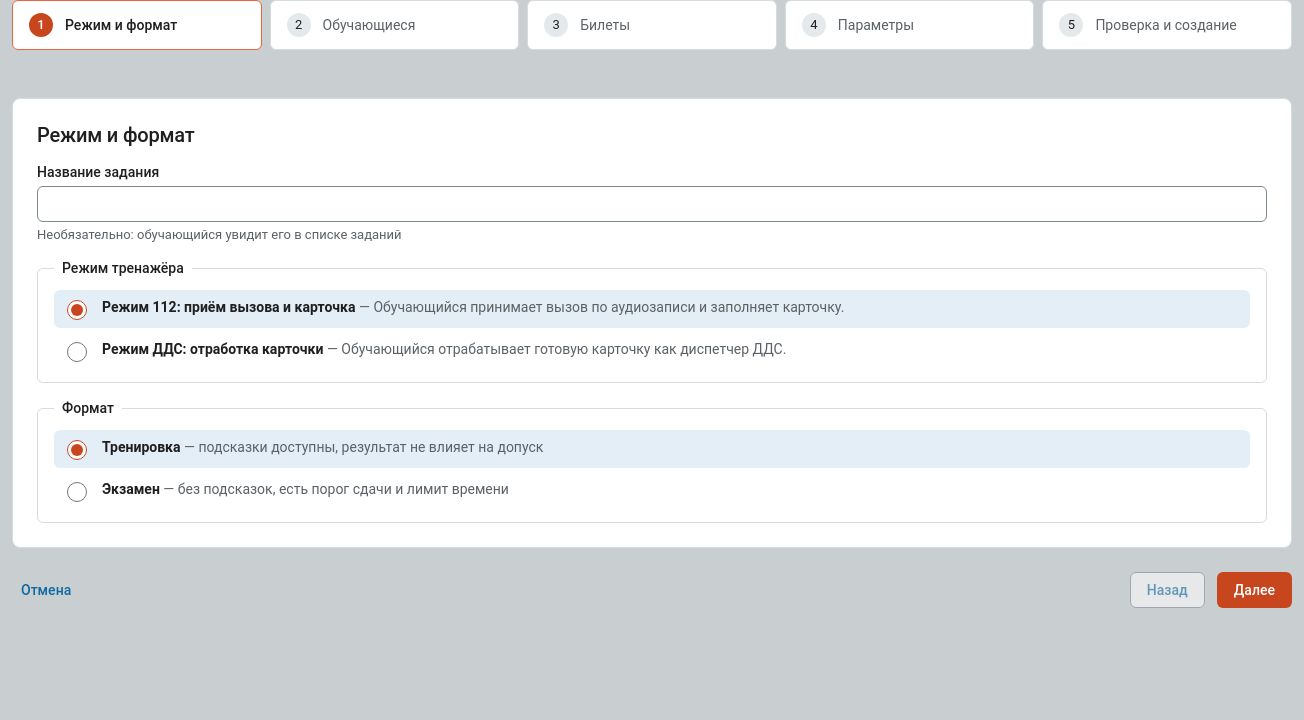
Test: мастер назначения › шаг 1: без закреплённых групп обучающихся нет
This screenshot has width=1304, height=720.
Click the button "Далее" at (1254, 590), box [1217,572,1292,608]
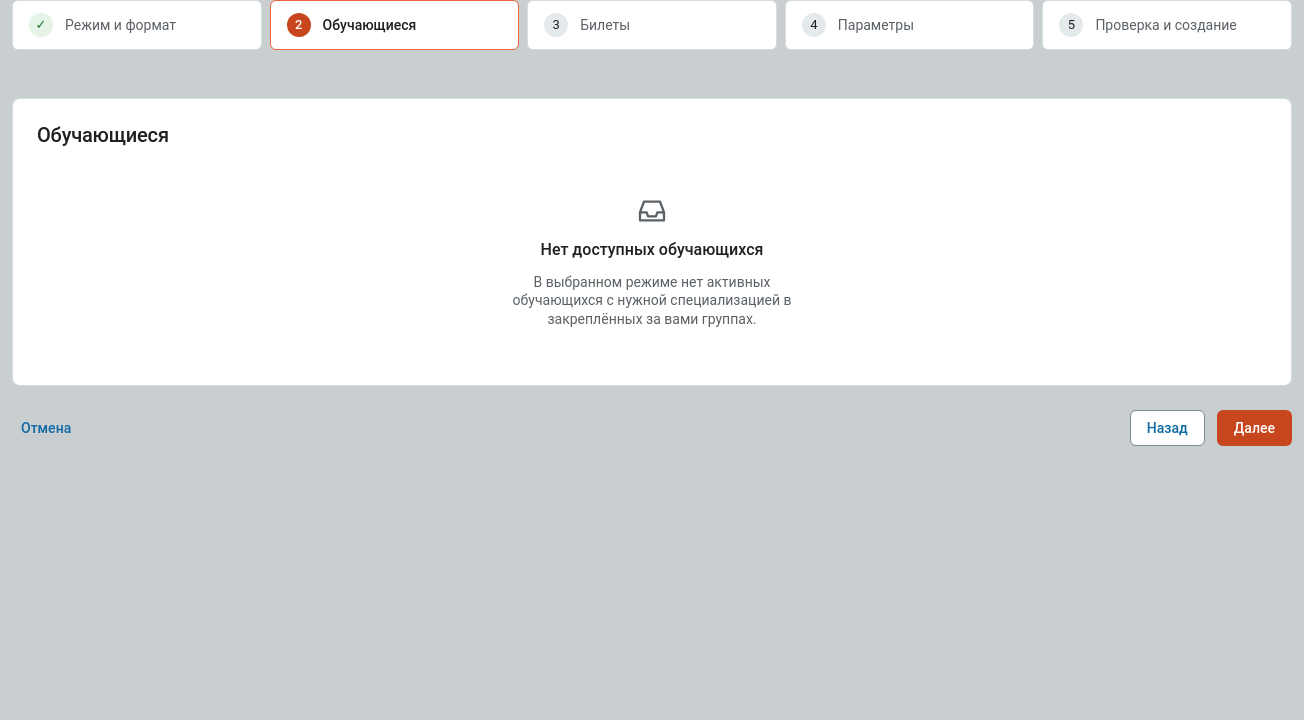
Now the heading "Нет доступных обучающихся" is shown, box [541,239,763,261]
